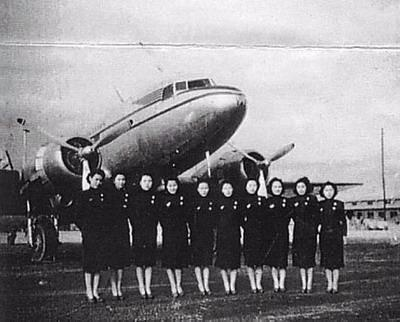airplane: (1, 69, 256, 227)
person: (71, 170, 113, 295), (102, 171, 134, 299), (126, 169, 158, 297), (157, 171, 189, 299), (190, 175, 218, 299), (218, 178, 245, 296), (265, 177, 291, 292), (290, 176, 316, 291), (318, 179, 344, 294), (242, 178, 264, 294)
